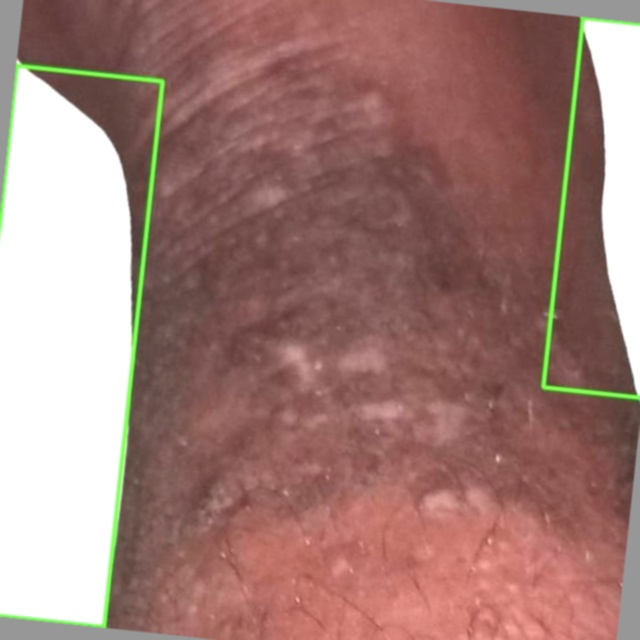Eczema: (0, 64, 163, 627), (543, 18, 639, 397)
